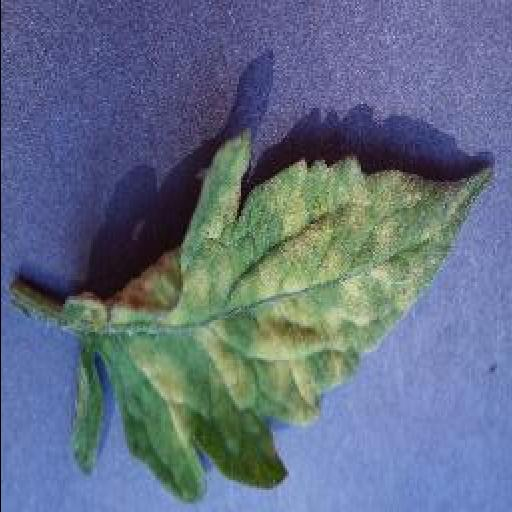disease_tomato: (68, 139, 498, 503)
